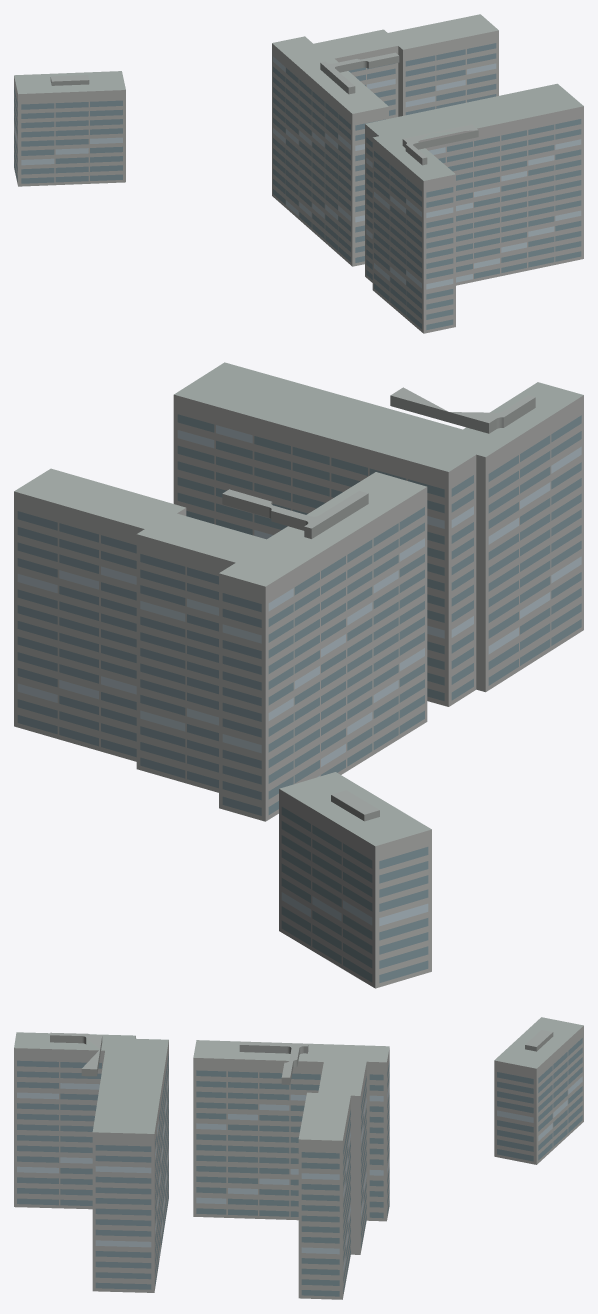
Rendered from apt-a13671207.glb.
The picture shows the model from 3 angles, top to bottom: view 1: azimuth 30°, elevation 25°; view 2: azimuth 150°, elevation 25°; view 3: azimuth 270°, elevation 25°; orthographic projection. The views are drawn at different scales.
Parts seen in each view (by area): view 1: apt-a13671207; view 2: apt-a13671207; view 3: apt-a13671207.
Boxes of the visible parts, <box> form: apt-a13671207: <box>14,14,583,333</box>; apt-a13671207: <box>14,362,583,988</box>; apt-a13671207: <box>14,1017,583,1299</box>.
Size of the model in its own units: 115 by 47.81 by 149.
